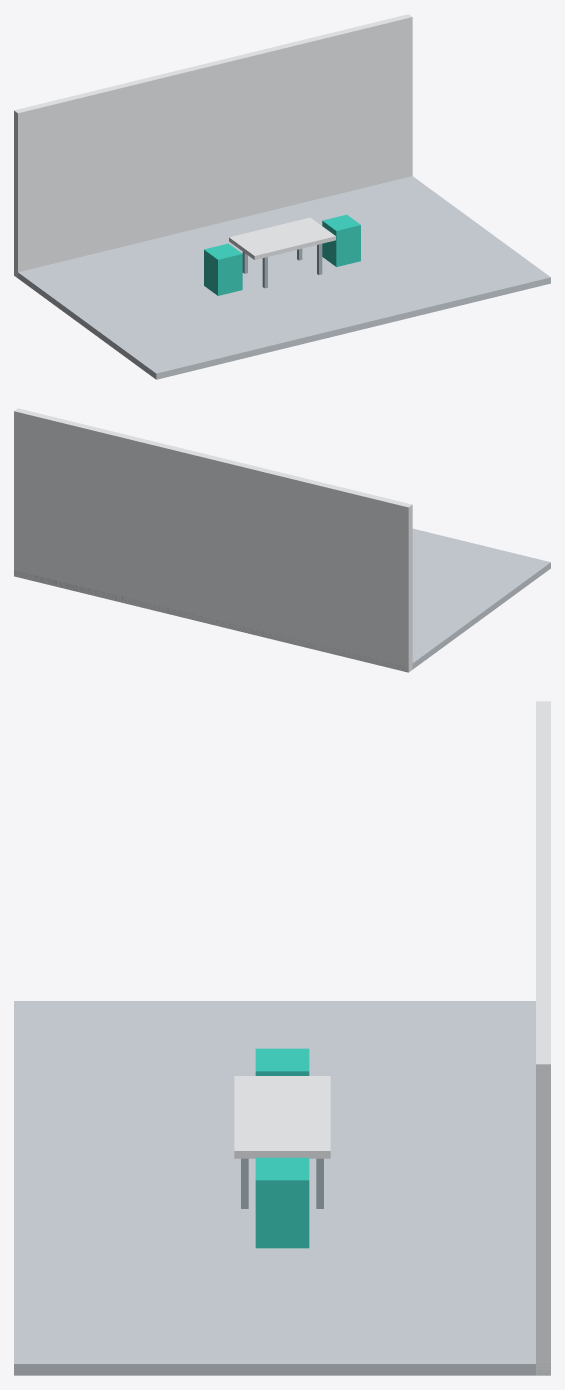
3 views of the same model, one above another, from view 1: azimuth 30°, elevation 25°; view 2: azimuth 150°, elevation 25°; view 3: azimuth 270°, elevation 25° (orthographic). The views are drawn at different scales.
Visible parts, largest first — view 1: Exhibition Booth Concept; view 2: Exhibition Booth Concept; view 3: Exhibition Booth Concept.
Boxes of the visible parts, bbox=[...] form: Exhibition Booth Concept: bbox=[14, 14, 550, 379]; Exhibition Booth Concept: bbox=[14, 408, 550, 672]; Exhibition Booth Concept: bbox=[14, 701, 550, 1375].
Bounding box in the file's own units: 8 × 3.2 × 5.
